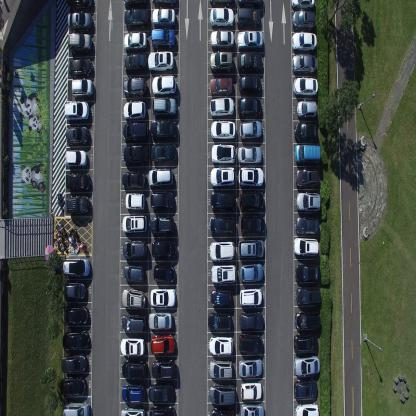car: (208, 382, 236, 405), (150, 286, 176, 310), (150, 118, 176, 142), (123, 143, 149, 167), (62, 330, 90, 352), (237, 332, 262, 356), (122, 74, 147, 98), (209, 190, 235, 213), (236, 51, 262, 74), (209, 262, 236, 284), (292, 236, 319, 258), (66, 10, 93, 32), (211, 142, 236, 165), (149, 334, 175, 356), (148, 214, 174, 236), (147, 167, 173, 189), (209, 166, 235, 188), (238, 166, 264, 188), (238, 238, 264, 260), (209, 240, 235, 262), (295, 262, 321, 284), (295, 144, 321, 166), (291, 53, 317, 75), (291, 30, 317, 52), (237, 29, 263, 51), (151, 74, 177, 96), (150, 142, 176, 164), (122, 120, 148, 142), (65, 171, 91, 193), (64, 100, 90, 122), (59, 376, 86, 397), (294, 310, 321, 331), (62, 257, 90, 277), (294, 120, 318, 143), (123, 98, 146, 122), (68, 31, 92, 54), (120, 287, 145, 309), (296, 286, 321, 308), (296, 191, 321, 213), (295, 167, 320, 189), (293, 75, 318, 97), (209, 6, 234, 28), (65, 125, 90, 147), (68, 56, 93, 78), (238, 310, 264, 331), (148, 381, 174, 402), (210, 119, 236, 140), (148, 50, 174, 71), (122, 30, 148, 51), (148, 309, 172, 331), (122, 214, 146, 236), (294, 378, 318, 400), (294, 332, 318, 354), (210, 96, 234, 118), (210, 50, 234, 72), (236, 6, 260, 28), (152, 97, 176, 119), (124, 8, 148, 30), (151, 238, 176, 259), (122, 239, 147, 260), (63, 305, 88, 326), (207, 310, 232, 331), (239, 190, 264, 211), (240, 214, 265, 235), (237, 96, 262, 117), (293, 356, 319, 376), (237, 358, 263, 378), (209, 215, 235, 235), (119, 314, 146, 333), (63, 279, 85, 302), (66, 194, 89, 216), (70, 78, 93, 100), (238, 144, 262, 165), (292, 9, 316, 30), (238, 119, 262, 140), (210, 29, 234, 50), (151, 28, 175, 49), (208, 335, 233, 355), (119, 337, 144, 357), (120, 360, 145, 380), (150, 360, 175, 380), (295, 216, 320, 236), (61, 354, 87, 373), (124, 51, 146, 73), (238, 381, 262, 401), (150, 191, 174, 211), (121, 171, 145, 191), (208, 359, 232, 379), (240, 262, 264, 282), (209, 75, 233, 95), (151, 8, 175, 28), (62, 400, 91, 416), (210, 287, 232, 308), (239, 287, 262, 307), (238, 74, 261, 94), (65, 148, 88, 168), (121, 383, 145, 402), (125, 192, 145, 214), (297, 98, 317, 120), (153, 264, 175, 283), (123, 264, 143, 283), (295, 402, 320, 416), (240, 403, 265, 415), (148, 405, 177, 415), (291, 0, 315, 11), (120, 405, 145, 415), (66, 0, 94, 8), (210, 407, 235, 415), (123, 0, 147, 8), (152, 0, 177, 7), (237, 0, 263, 5), (209, 0, 234, 5)
